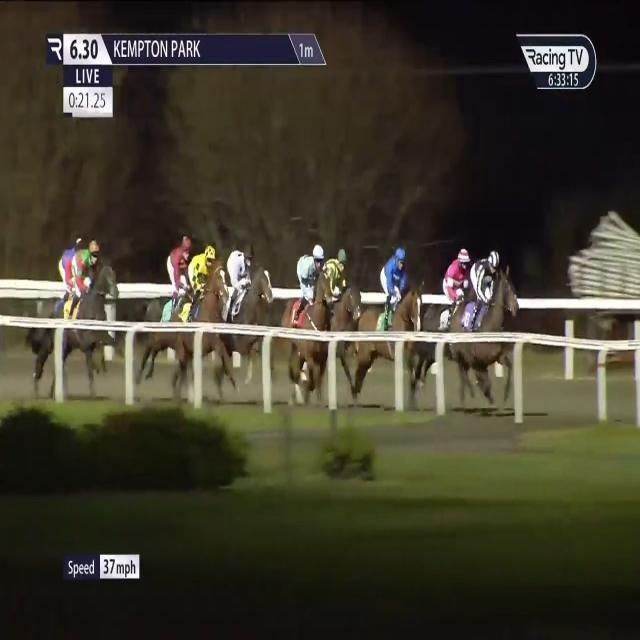horses-racing: (455, 240, 532, 372), (43, 234, 115, 365), (162, 234, 227, 365), (135, 228, 200, 352), (305, 232, 360, 378), (358, 243, 422, 357), (266, 232, 327, 348), (209, 235, 263, 357), (421, 236, 469, 357), (42, 227, 87, 335)
